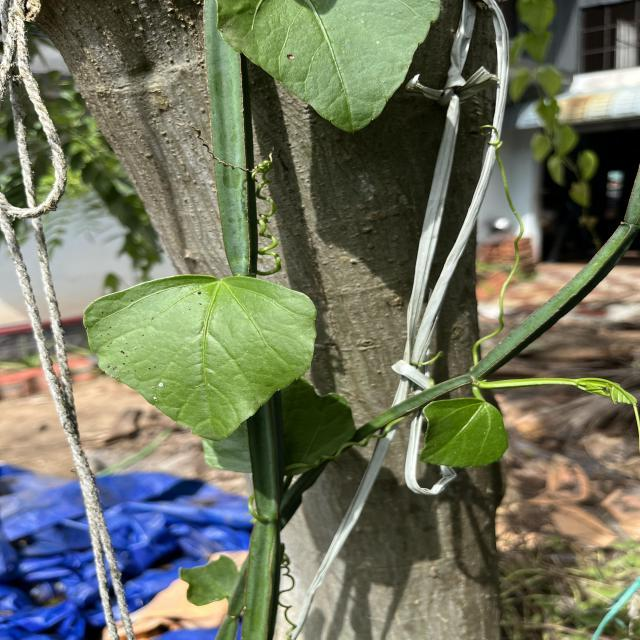Cissus quadrangularis: (80, 271, 320, 444)
